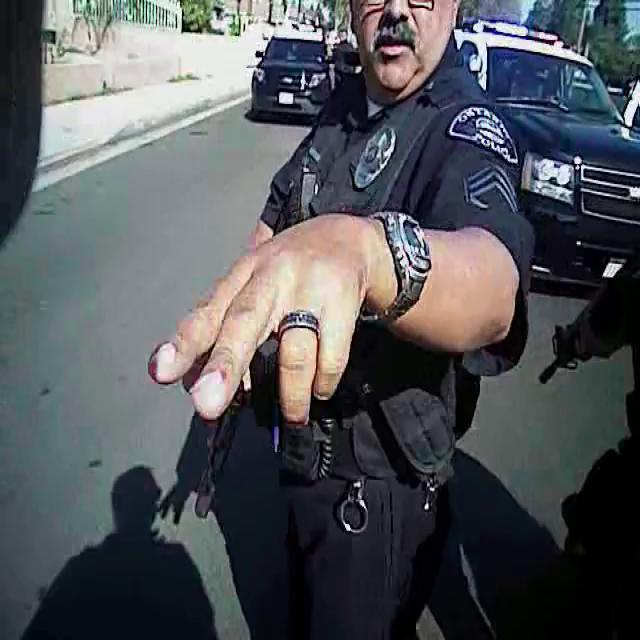gun: (187, 364, 251, 522)
